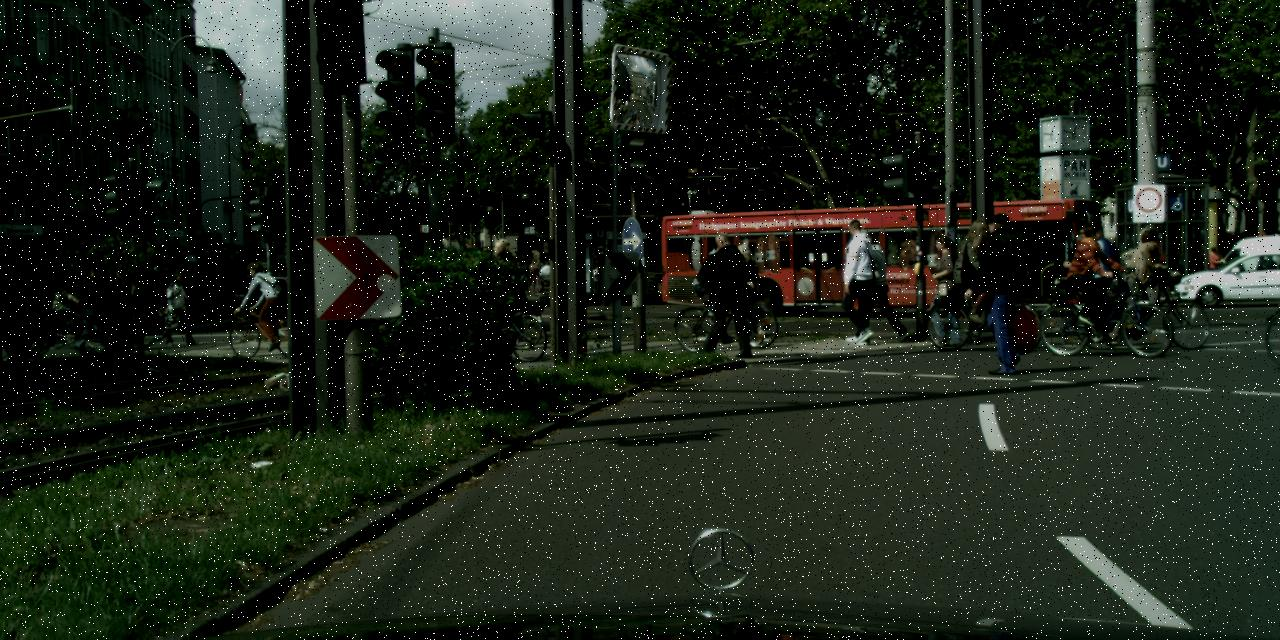ped: (971, 213, 1036, 371), (696, 230, 748, 358), (832, 220, 882, 342), (1074, 222, 1120, 336), (954, 220, 999, 332), (854, 232, 899, 341), (922, 236, 966, 343), (1124, 226, 1165, 325), (728, 243, 768, 342), (700, 239, 738, 333), (246, 262, 280, 347), (77, 268, 111, 352), (164, 272, 194, 346), (520, 257, 549, 287), (1207, 246, 1225, 292), (187, 270, 197, 299), (202, 268, 210, 298)
